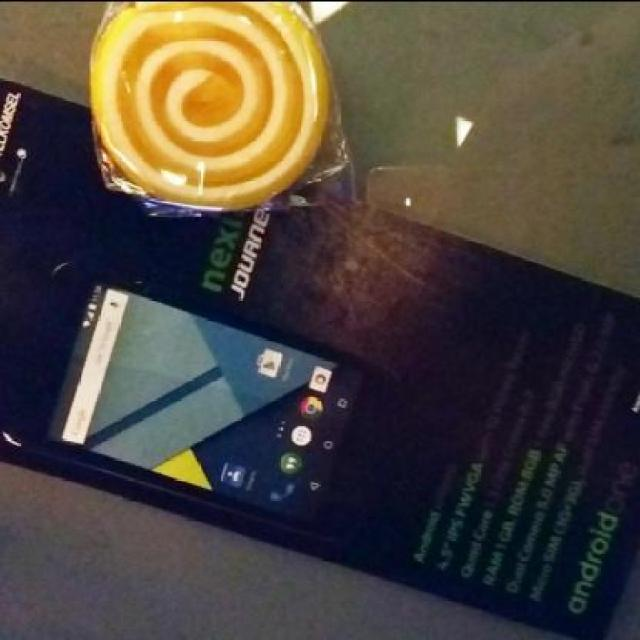phone: (0, 256, 384, 533)
